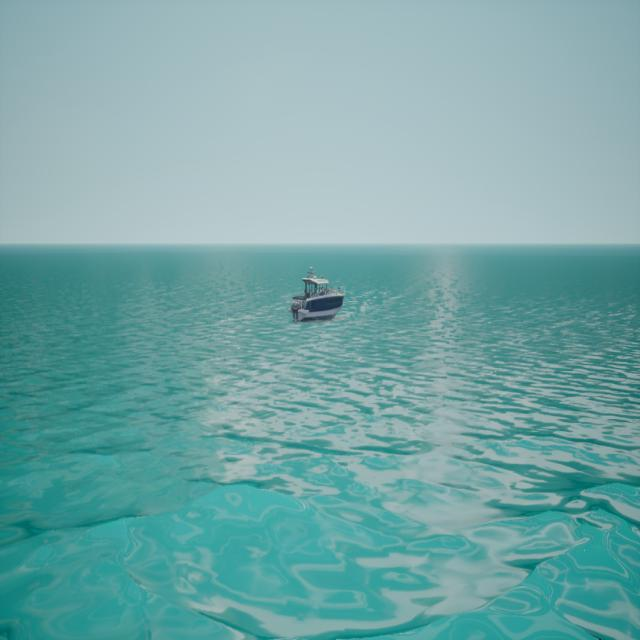ship: (289, 266, 344, 322)
